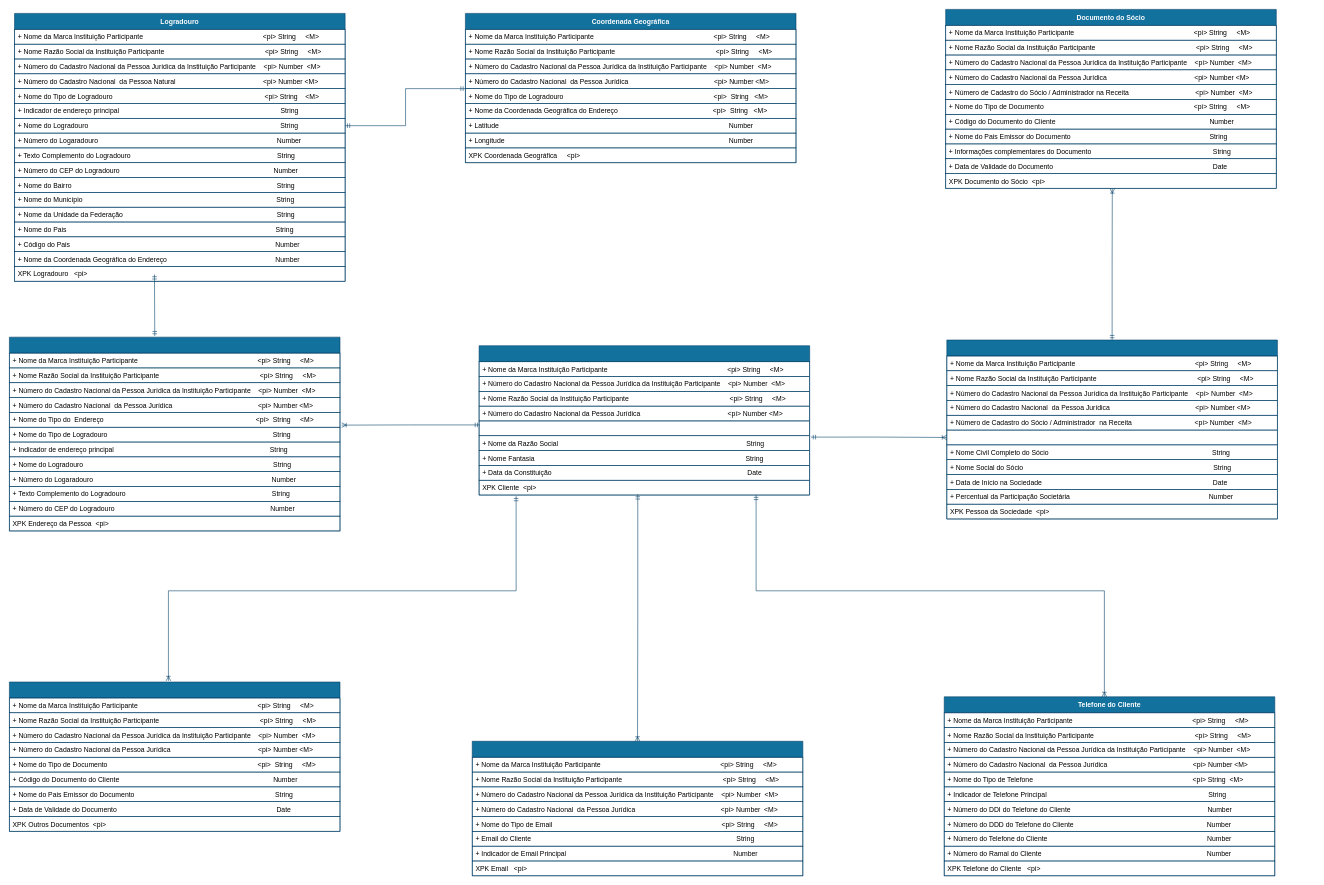
The diagram is 1324 pixels wide and 885 high, and some of its shapes have lost their labels. Here are the shapes that lost their labels. From the top down, the box of each, then its label:
(9, 337, 340, 531): Endereço do Cliente
(479, 345, 810, 495): Cliente Pessoa Jurídica
(479, 420, 810, 436): + Número de Registro no Pais de Origem Number
(946, 339, 1277, 519): Partes envolvidas (Pessoa da sociedade)
(946, 429, 1277, 445): + Nome do Tipo do Perfil do Sócio String
(9, 681, 340, 831): Outros Documentos do Cliente
(472, 741, 803, 876): Emai do Cliente
